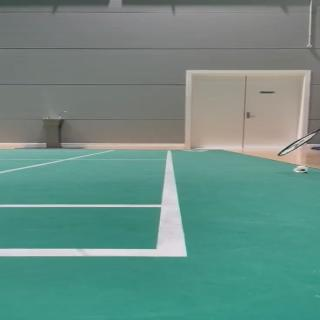Shuttle: (292, 165, 309, 173)
